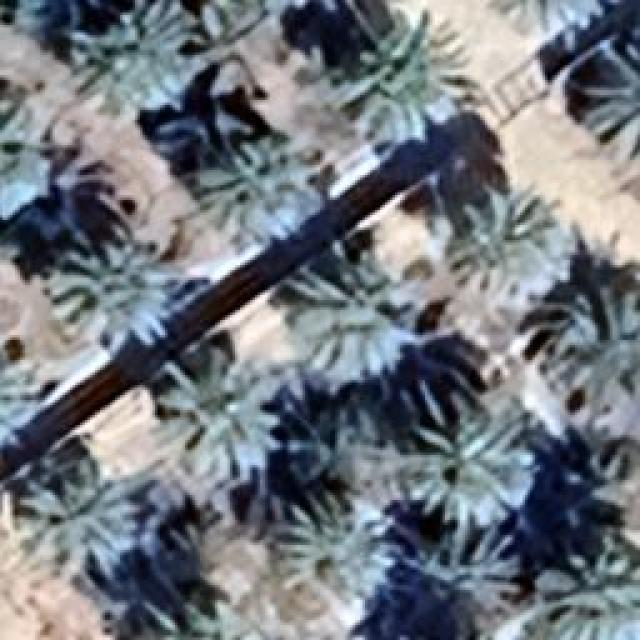PalmTree: (285, 250, 433, 388), (150, 350, 288, 495), (402, 388, 530, 522), (45, 230, 185, 350), (12, 465, 138, 580), (62, 0, 189, 112), (195, 140, 323, 250), (270, 490, 390, 605), (448, 190, 560, 302), (345, 19, 453, 132), (552, 280, 638, 415), (398, 514, 502, 618), (0, 112, 80, 228), (288, 396, 380, 484), (542, 548, 638, 632), (572, 30, 638, 135), (485, 0, 610, 48), (113, 592, 230, 638), (0, 330, 37, 446)
